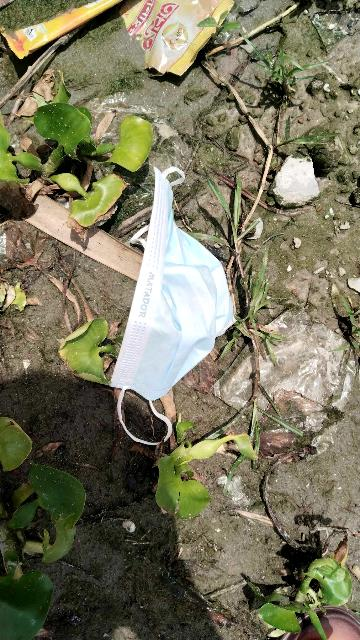mask: (116, 150, 263, 494)
